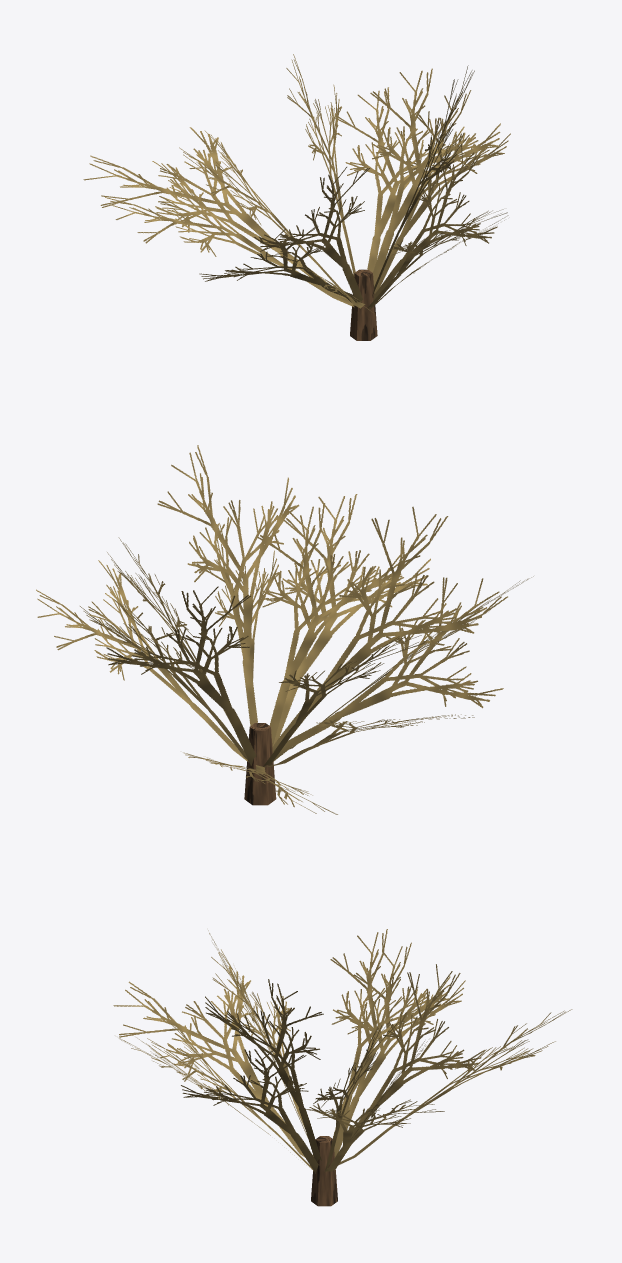
The model's file is SM_Desert_DryShrub_A.glb.
The picture shows the model from 3 angles, top to bottom: view 1: azimuth 30°, elevation 25°; view 2: azimuth 150°, elevation 25°; view 3: azimuth 270°, elevation 25°; orthographic projection. The views are drawn at different scales.
Parts seen in each view (by area): view 1: SM_Desert_DryShrub_A; view 2: SM_Desert_DryShrub_A; view 3: SM_Desert_DryShrub_A.
Part boxes in pixels (bbox=[...]): SM_Desert_DryShrub_A: bbox=[83, 54, 510, 340]; SM_Desert_DryShrub_A: bbox=[36, 445, 533, 814]; SM_Desert_DryShrub_A: bbox=[113, 929, 572, 1206].
Bounding box in the file's own units: 1.12 × 0.6529 × 1.31.
2 materials, 2 textured.
